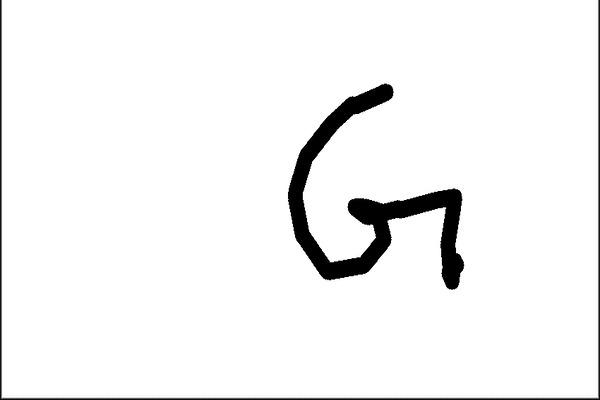G: (283, 78, 468, 296)
